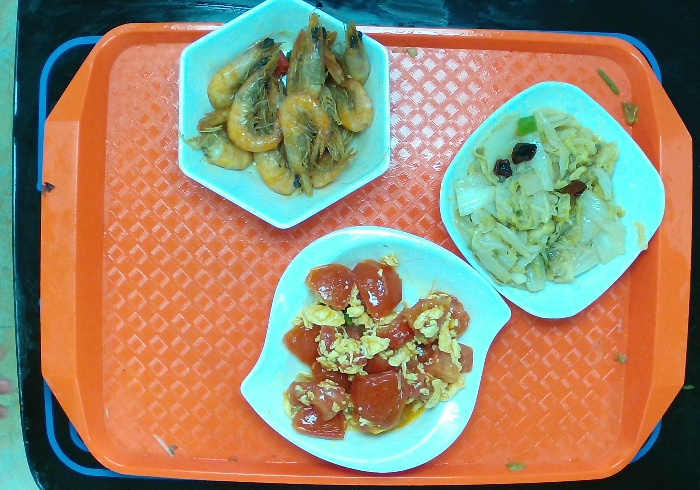RJxy-Liu_Jiao_Wan: (172, 3, 397, 232)
RJxy-Shuang_Jiao_Pan: (237, 226, 507, 473)
RJxy-Si_Fang_Wan: (437, 77, 667, 321)
